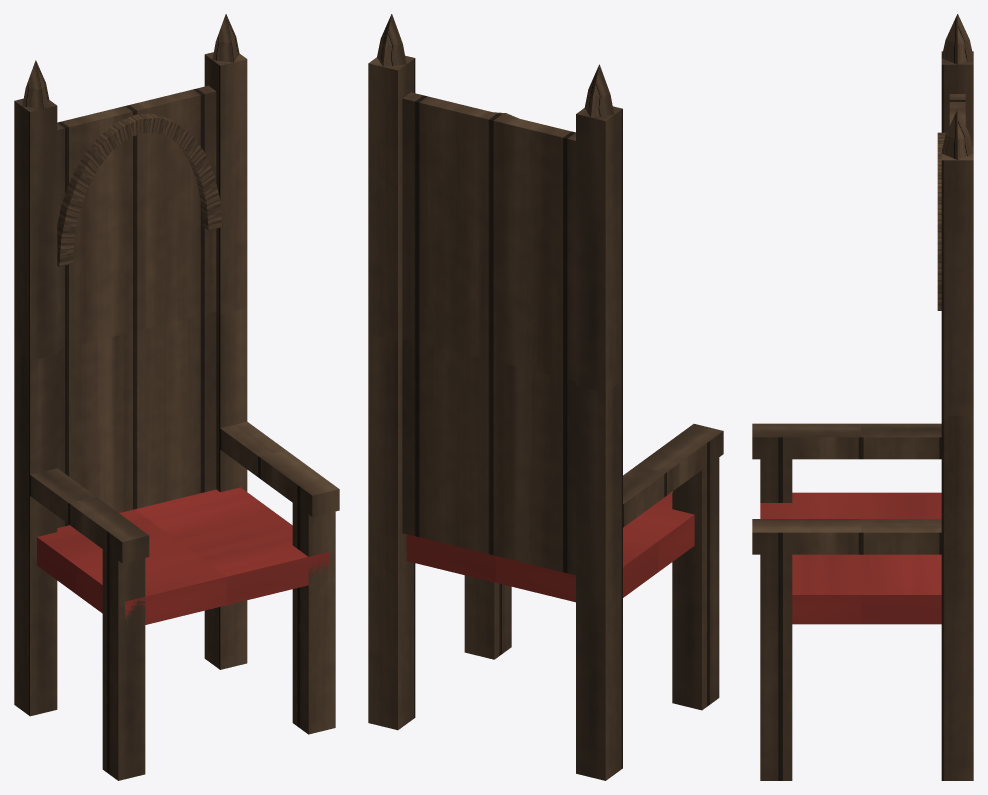
Rendered from Chair_Gothic_1.gltf.
3 views of the same model, side by side, from view 1: azimuth 30°, elevation 25°; view 2: azimuth 150°, elevation 25°; view 3: azimuth 270°, elevation 25° (orthographic). The views are drawn at different scales.
Parts seen in each view (by area): view 1: Chair_Gothic_1; view 2: Chair_Gothic_1; view 3: Chair_Gothic_1.
Part boxes in pixels (box(x1,y1,x2,y2)): Chair_Gothic_1: box(14, 14, 339, 780); Chair_Gothic_1: box(368, 14, 723, 780); Chair_Gothic_1: box(752, 14, 973, 780).
Size of the model in its own units: 0.64 by 1.82 by 0.55.
2 materials, 2 textured.
